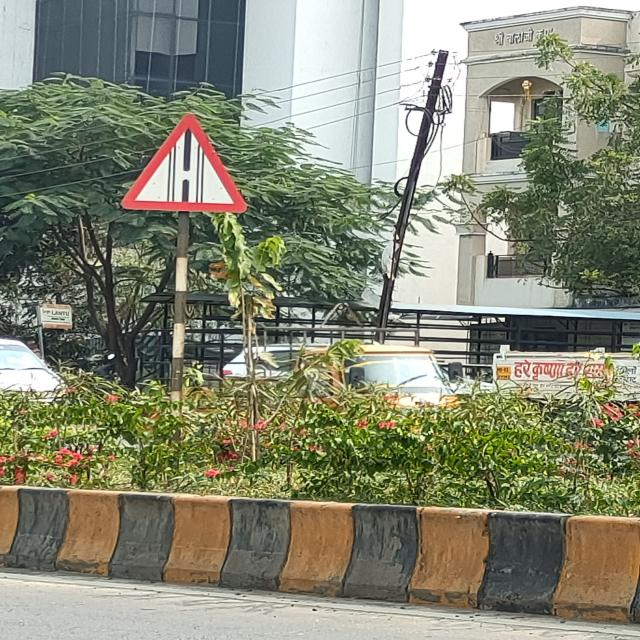GAP_IN_MEDIAN: (115, 113, 261, 212)
